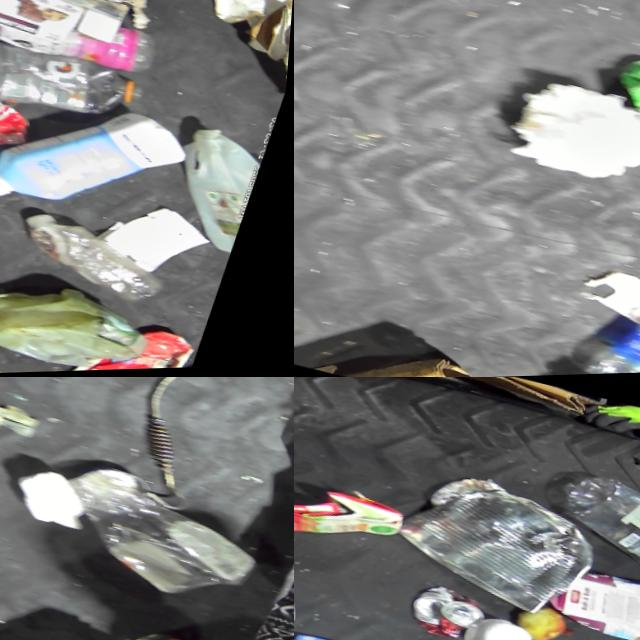can: (381, 462, 616, 630), (407, 578, 500, 640), (602, 50, 640, 158), (130, 624, 219, 640)
milk_jug: (157, 121, 277, 261)
plastic_bottle: (7, 204, 187, 315), (0, 31, 159, 142), (540, 464, 640, 590), (589, 283, 640, 377)
